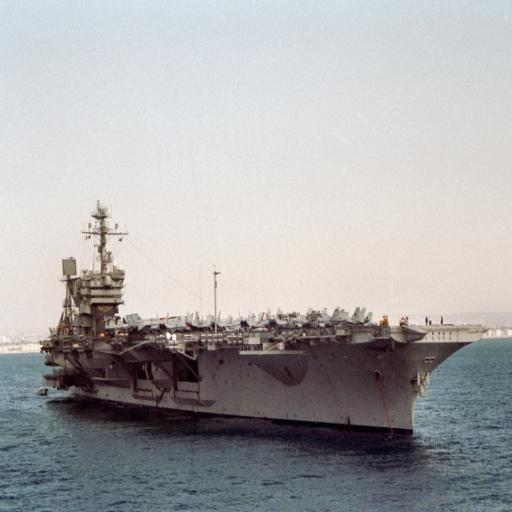Portanaves: (35, 193, 493, 459)
